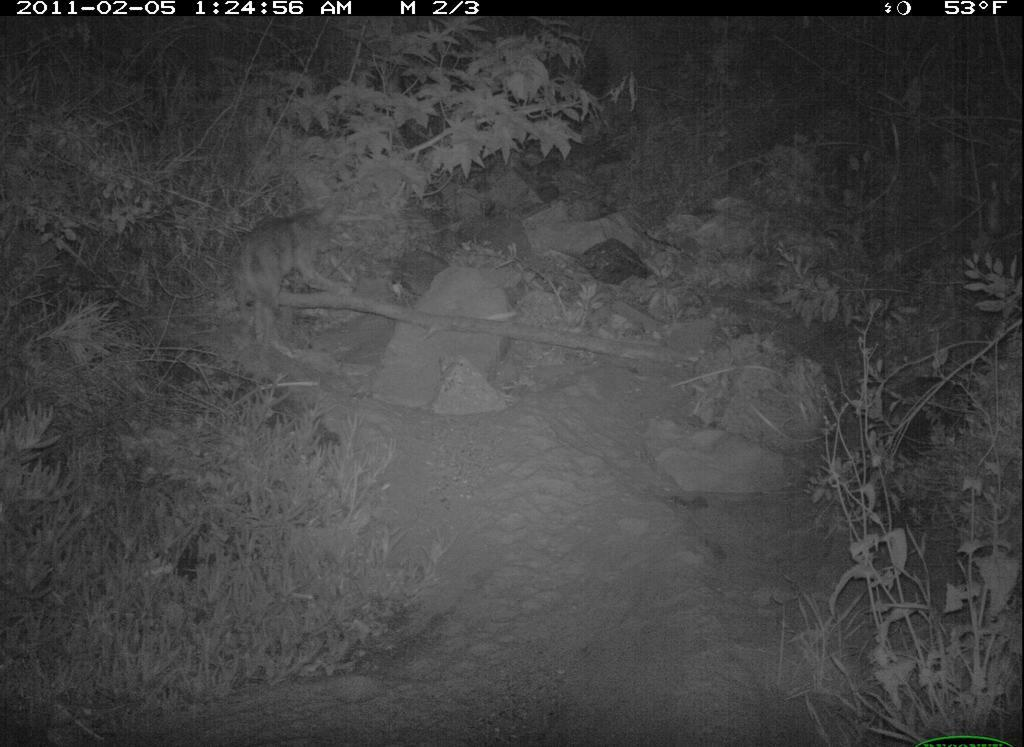coyote: (228, 190, 363, 332)
